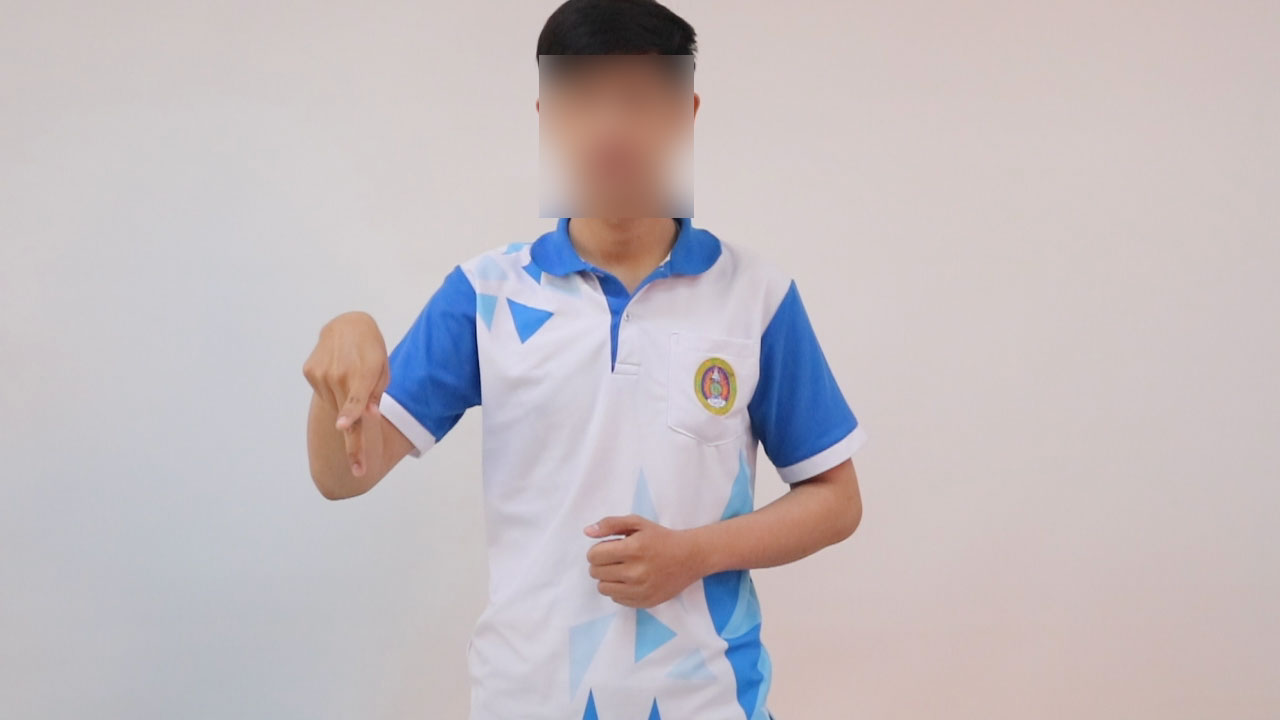por: (288, 292, 402, 481)
